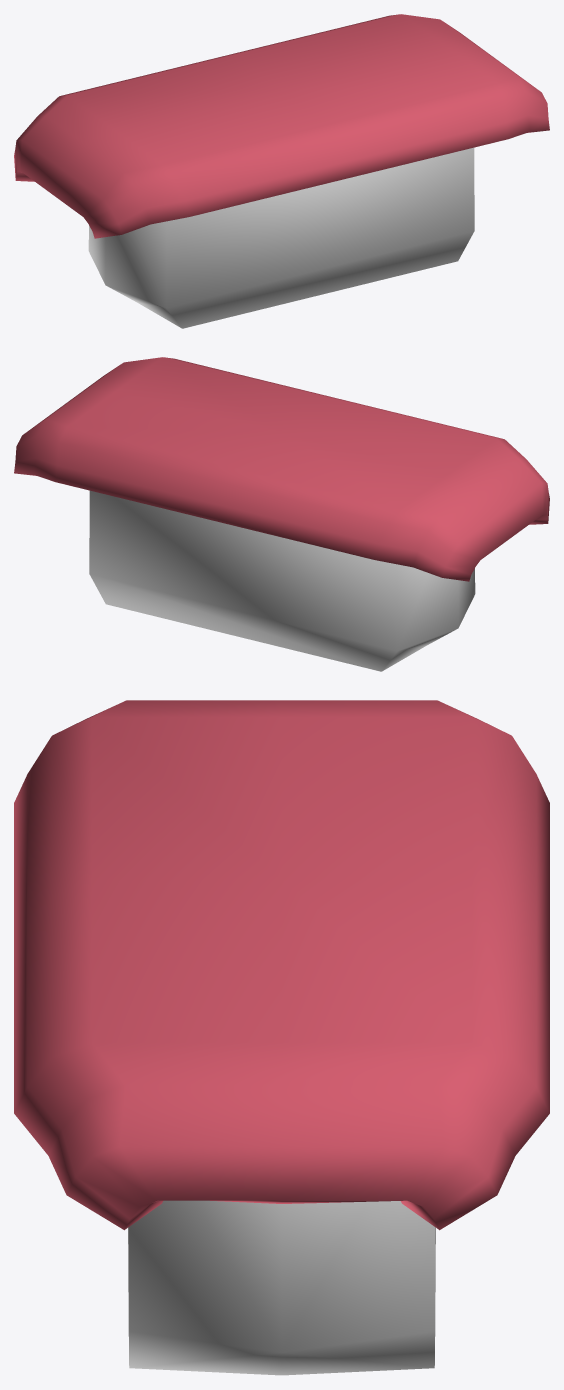
Rendered from sushi.fbx.
3 views of the same model, one above another, from view 1: azimuth 30°, elevation 25°; view 2: azimuth 150°, elevation 25°; view 3: azimuth 270°, elevation 25° (orthographic). The views are drawn at different scales.
Visible parts, largest first — view 1: Cube.001, Cube; view 2: Cube.001, Cube; view 3: Cube.001, Cube.
Part boxes in pixels (bbox=[...]): Cube.001: bbox=[14, 14, 549, 238]; Cube: bbox=[88, 147, 474, 328]; Cube.001: bbox=[14, 357, 549, 581]; Cube: bbox=[89, 490, 475, 671]; Cube.001: bbox=[14, 700, 549, 1230]; Cube: bbox=[128, 1200, 435, 1375].
Size of the model in its own units: 3.9 by 1.44 by 1.97.
